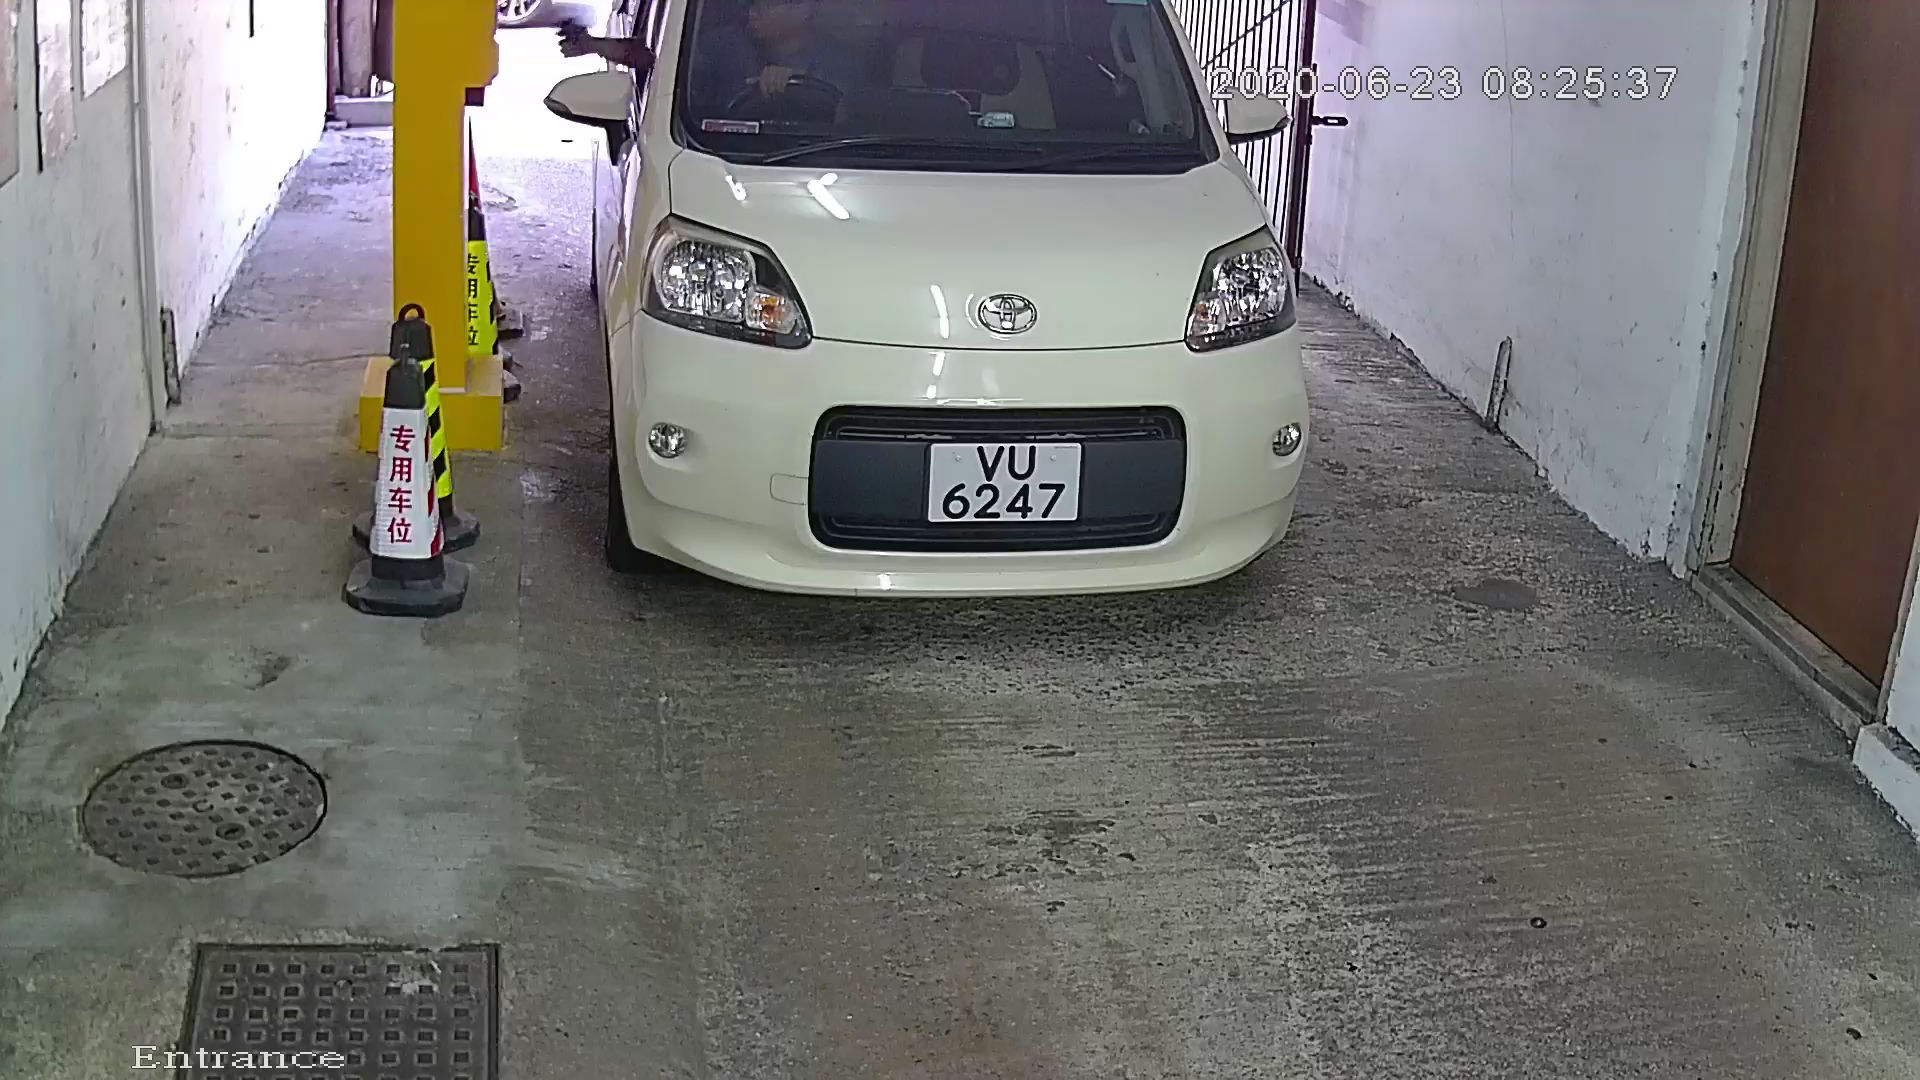privatecar: (520, 3, 1394, 647)
